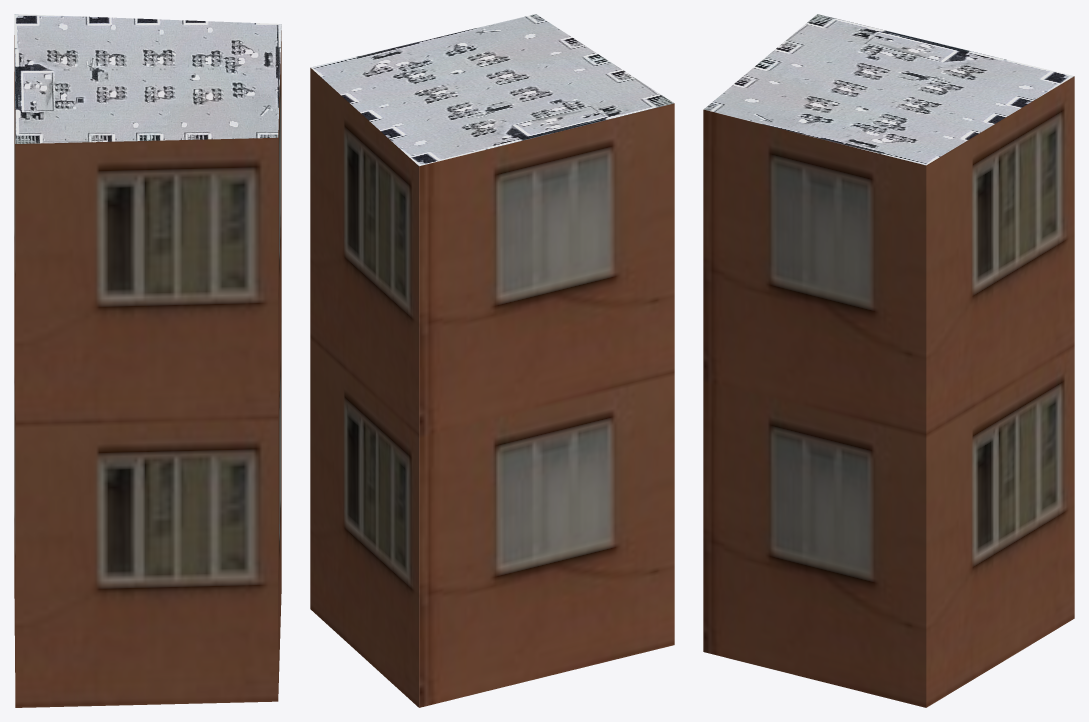
The model's file is ResTex__3941.fbx.
The picture shows the model from 3 angles, left to right: view 1: azimuth 30°, elevation 25°; view 2: azimuth 150°, elevation 25°; view 3: azimuth 270°, elevation 25°; orthographic projection. The views are drawn at different scales.
Parts seen in each view (by area): view 1: CityEngineMaterial_20_m, CityEngineMaterial_2_m; view 2: CityEngineMaterial_20_m, CityEngineMaterial_2_m; view 3: CityEngineMaterial_20_m, CityEngineMaterial_2_m.
Part boxes in pixels (left/top/right/bottom): CityEngineMaterial_20_m: left=14, top=30, right=281, bottom=707; CityEngineMaterial_2_m: left=14, top=14, right=281, bottom=143; CityEngineMaterial_20_m: left=310, top=68, right=674, bottom=707; CityEngineMaterial_2_m: left=310, top=14, right=673, bottom=166; CityEngineMaterial_20_m: left=703, top=76, right=1074, bottom=707; CityEngineMaterial_2_m: left=704, top=14, right=1073, bottom=165.
Bounding box in the file's own units: 3.59 × 6 × 3.72.
Materials: 2 (2 with a texture image).
